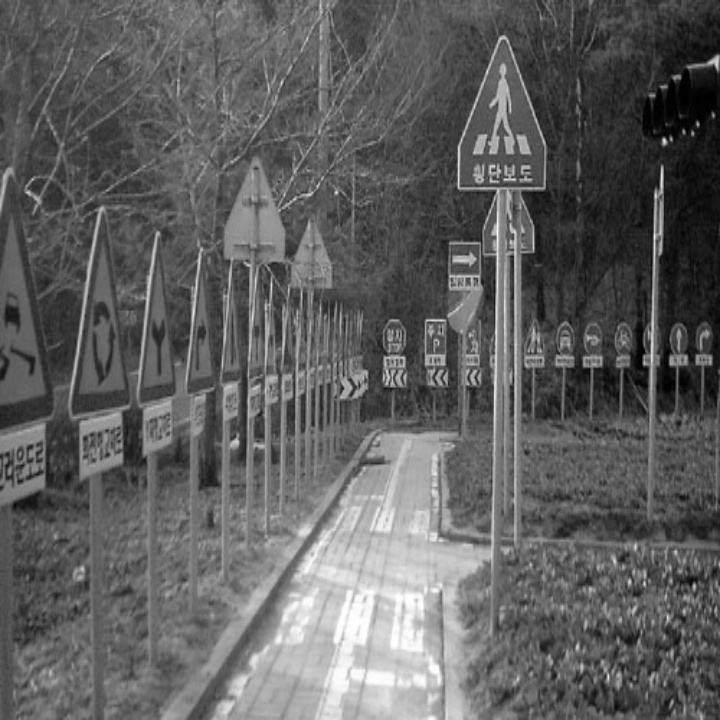cross: (462, 47, 548, 158)
